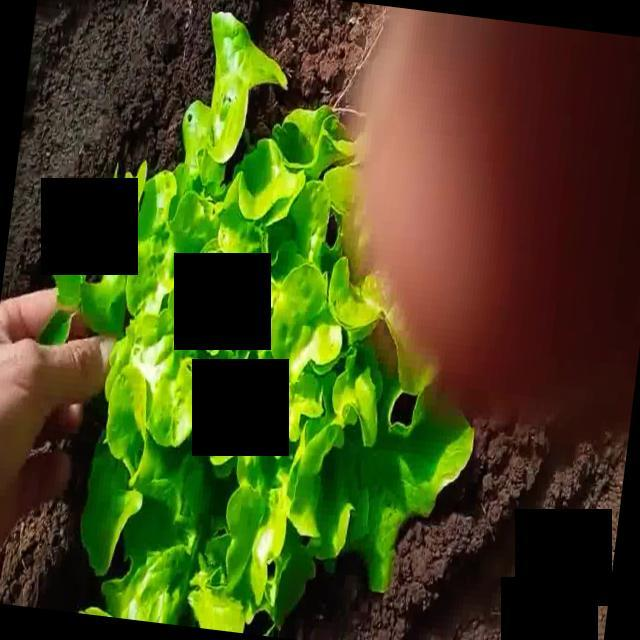Lettuce: (72, 5, 471, 632)
